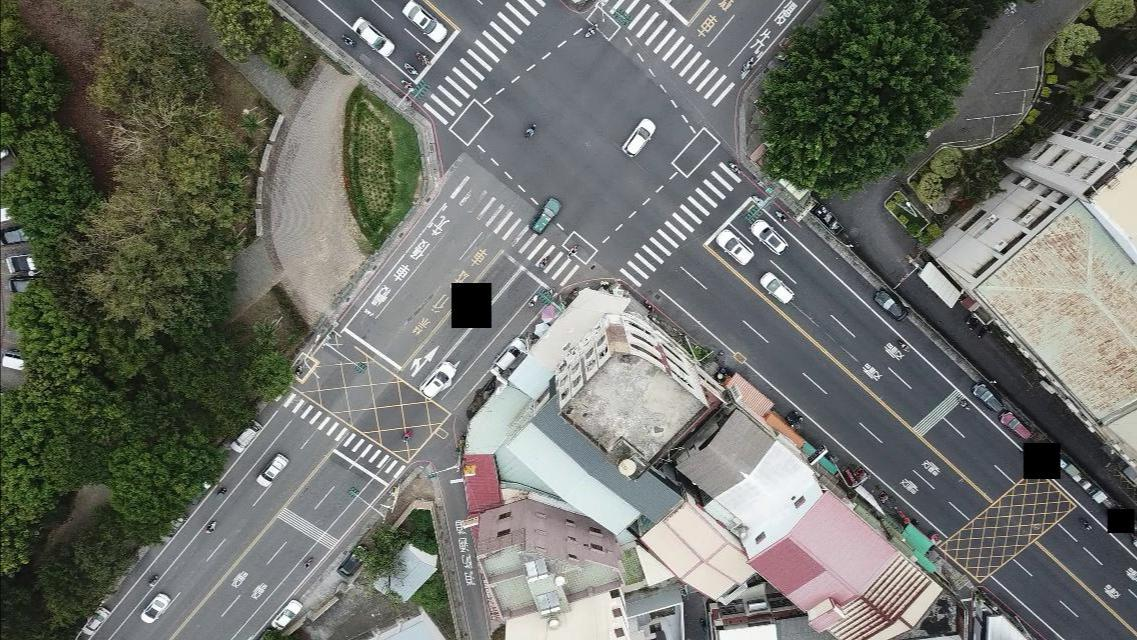vehicle: (403, 1, 448, 43), (350, 16, 395, 57), (750, 218, 790, 256), (716, 227, 753, 266), (420, 360, 456, 398), (623, 118, 657, 158), (873, 287, 910, 322), (529, 197, 562, 236), (758, 271, 795, 305), (255, 453, 288, 489), (336, 545, 369, 579), (999, 410, 1035, 441), (230, 418, 261, 453), (972, 381, 1005, 413), (271, 598, 303, 631), (140, 592, 170, 624), (80, 606, 110, 637)
